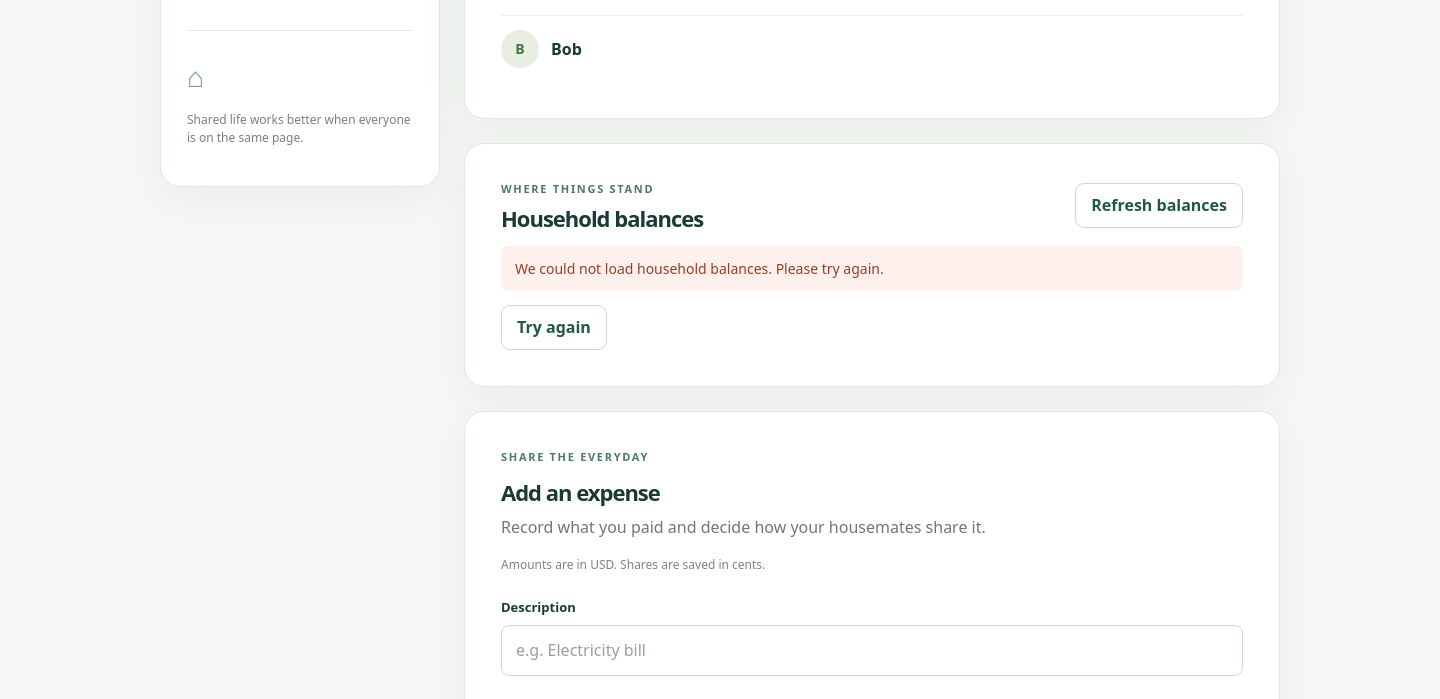
it: household balance view › allows retry after a balance read failure
The image size is (1440, 699).
(page scrolled)
Expected: the message shows "We could not load household balances.", [515, 258, 884, 278]
Click the button "Try again". click: {"x": 554, "y": 328}
box: [501, 305, 607, 350]
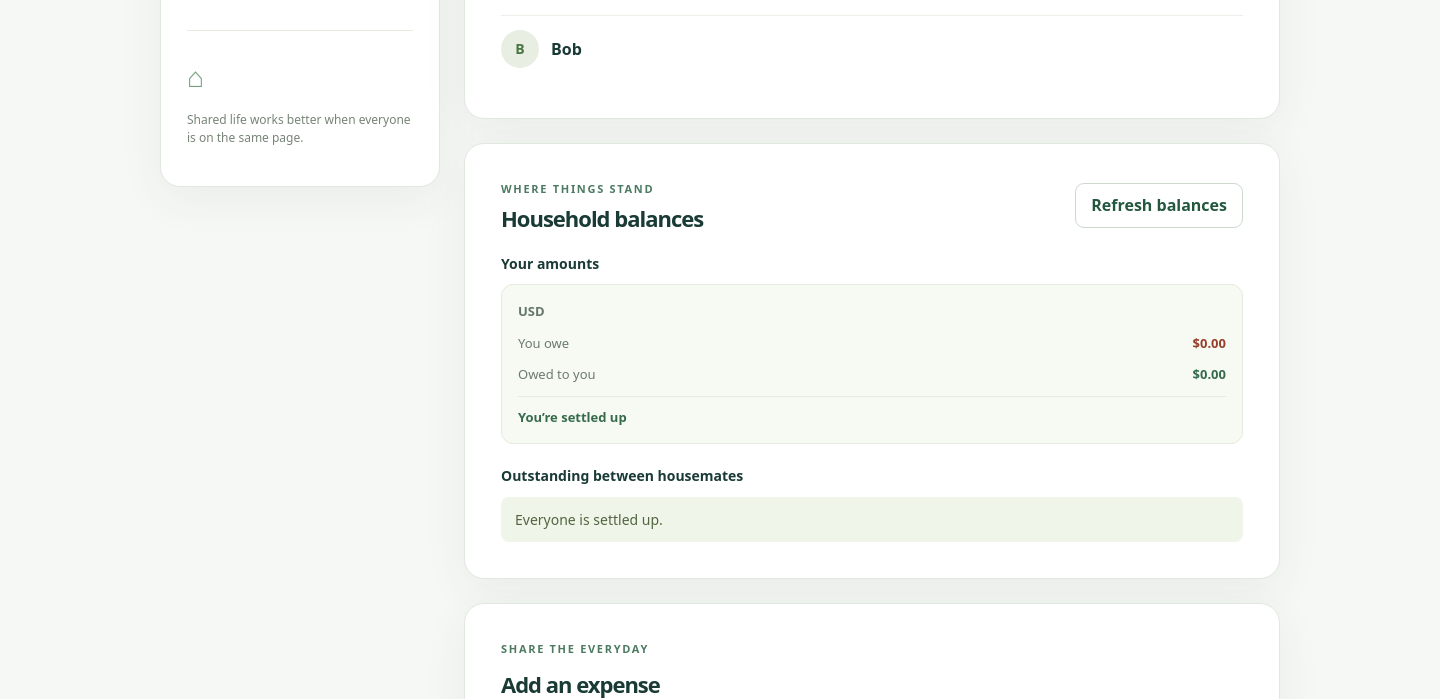
Expected: the text "Everyone is settled up." is shown, [501, 497, 1243, 542]
